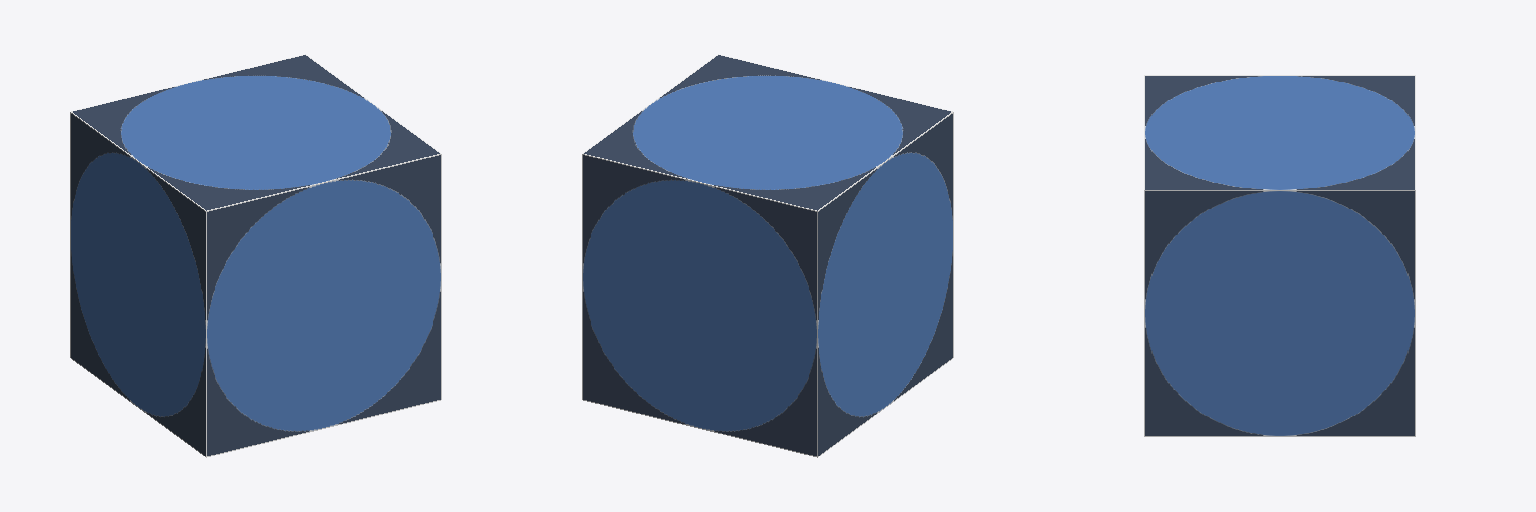
The picture shows the model from 3 angles: view 1: azimuth 30°, elevation 25°; view 2: azimuth 150°, elevation 25°; view 3: azimuth 270°, elevation 25°; orthographic projection.
Parts seen in each view (by area): view 1: 立方体; view 2: 立方体; view 3: 立方体.
Part boxes in pixels (x1,y1,x2,y2): 立方体: (70, 54, 441, 457); 立方体: (582, 54, 953, 457); 立方体: (1144, 75, 1415, 436).
Bounding box in the file's own units: 2 × 2 × 2.
Materials: 1 (1 with a texture image).